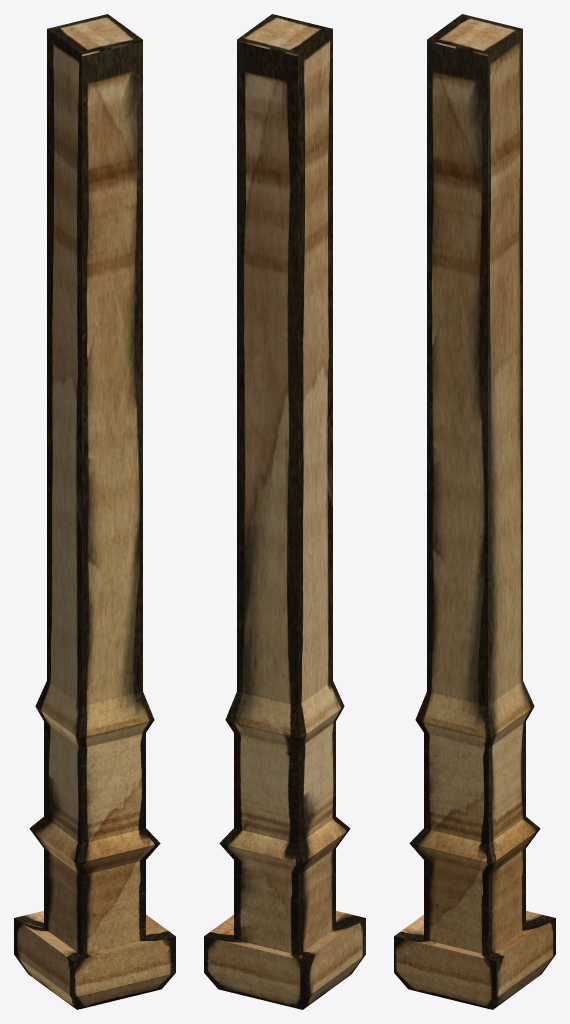
Rendered from Press.fbx.
The picture shows the model from 3 angles, left to right: view 1: azimuth 30°, elevation 25°; view 2: azimuth 150°, elevation 25°; view 3: azimuth 330°, elevation 25°; orthographic projection.
Visible parts, largest first — view 1: Cube.010; view 2: Cube.010; view 3: Cube.010.
Part boxes in pixels (<box>): Cube.010: <box>14,14,175,1009</box>; Cube.010: <box>204,14,365,1009</box>; Cube.010: <box>394,14,555,1009</box>.
Bounding box in the file's own units: 56.87 × 503 × 56.87.
